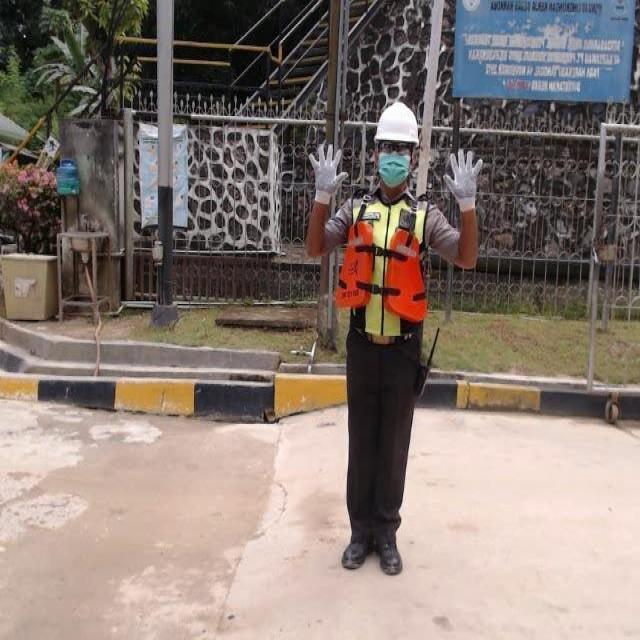helmet: (366, 99, 432, 148)
jacket: (331, 192, 436, 329)
